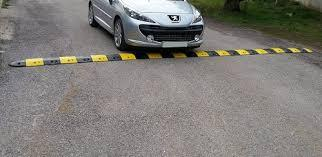Bump: (8, 44, 310, 68)
